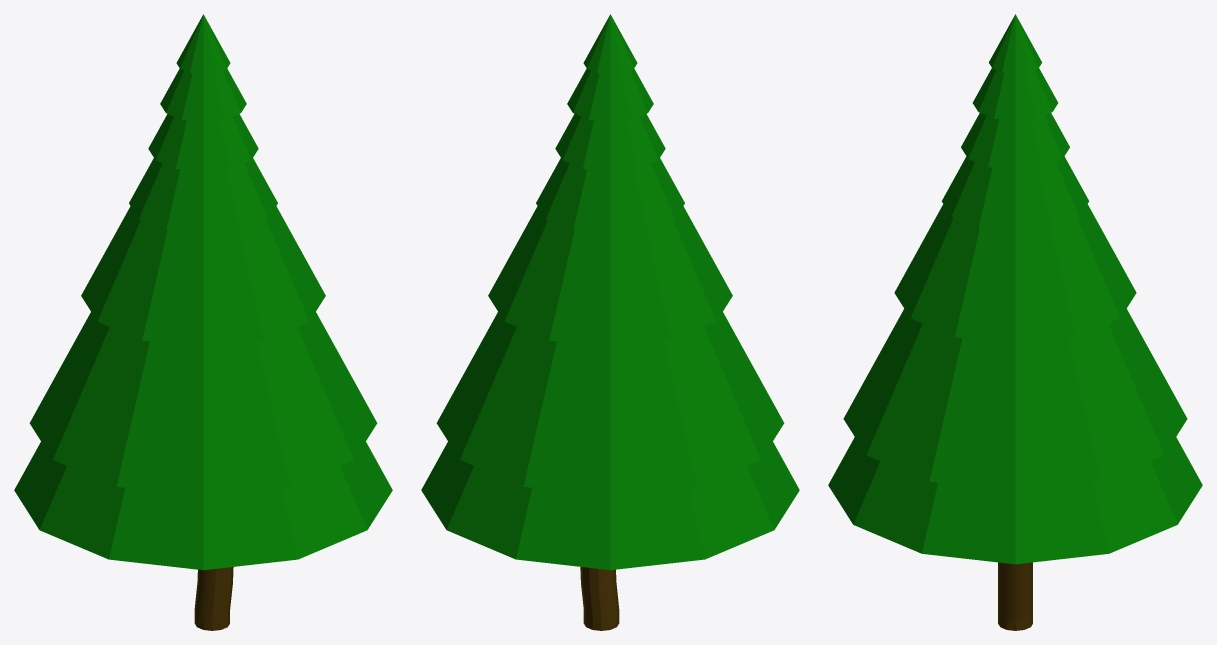
The model's file is Pino_Lleno.fbx.
The picture shows the model from 3 angles, left to right: view 1: azimuth 30°, elevation 25°; view 2: azimuth 150°, elevation 25°; view 3: azimuth 270°, elevation 25°; orthographic projection.
Visible parts, largest first — view 1: pCone6, pCone7, pCone5, pCone4, pCone3, pCone2, pCylinder1, pCone1; view 2: pCone6, pCone7, pCone5, pCone4, pCone3, pCone2, pCylinder1, pCone1; view 3: pCone6, pCone7, pCone5, pCone4, pCone3, pCone2, pCylinder1, pCone1.
Boxes of the visible parts, x1=… form: pCone6: x1=29, y1=312, x2=377, y2=496; pCone7: x1=14, y1=441, x2=392, y2=570; pCone5: x1=81, y1=206, x2=325, y2=347; pCone4: x1=129, y1=158, x2=277, y2=234; pCone3: x1=148, y1=114, x2=258, y2=171; pCone2: x1=160, y1=68, x2=246, y2=122; pCylinder1: x1=194, y1=567, x2=233, y2=630; pCone1: x1=176, y1=14, x2=230, y2=74; pCone6: x1=436, y1=312, x2=784, y2=496; pCone7: x1=421, y1=441, x2=799, y2=570; pCone5: x1=488, y1=206, x2=732, y2=347; pCone4: x1=536, y1=158, x2=684, y2=234; pCone3: x1=555, y1=114, x2=665, y2=171; pCone2: x1=567, y1=68, x2=653, y2=122; pCylinder1: x1=580, y1=567, x2=619, y2=630; pCone1: x1=583, y1=14, x2=637, y2=74; pCone6: x1=843, y1=309, x2=1187, y2=491; pCone7: x1=828, y1=437, x2=1202, y2=564; pCone5: x1=894, y1=204, x2=1136, y2=343; pCone4: x1=941, y1=156, x2=1089, y2=232; pCone3: x1=961, y1=113, x2=1069, y2=170; pCone2: x1=972, y1=68, x2=1058, y2=120; pCylinder1: x1=998, y1=562, x2=1032, y2=630; pCone1: x1=989, y1=14, x2=1041, y2=73.
Bounding box in the file's own units: 13.98 × 24.92 × 13.98.
